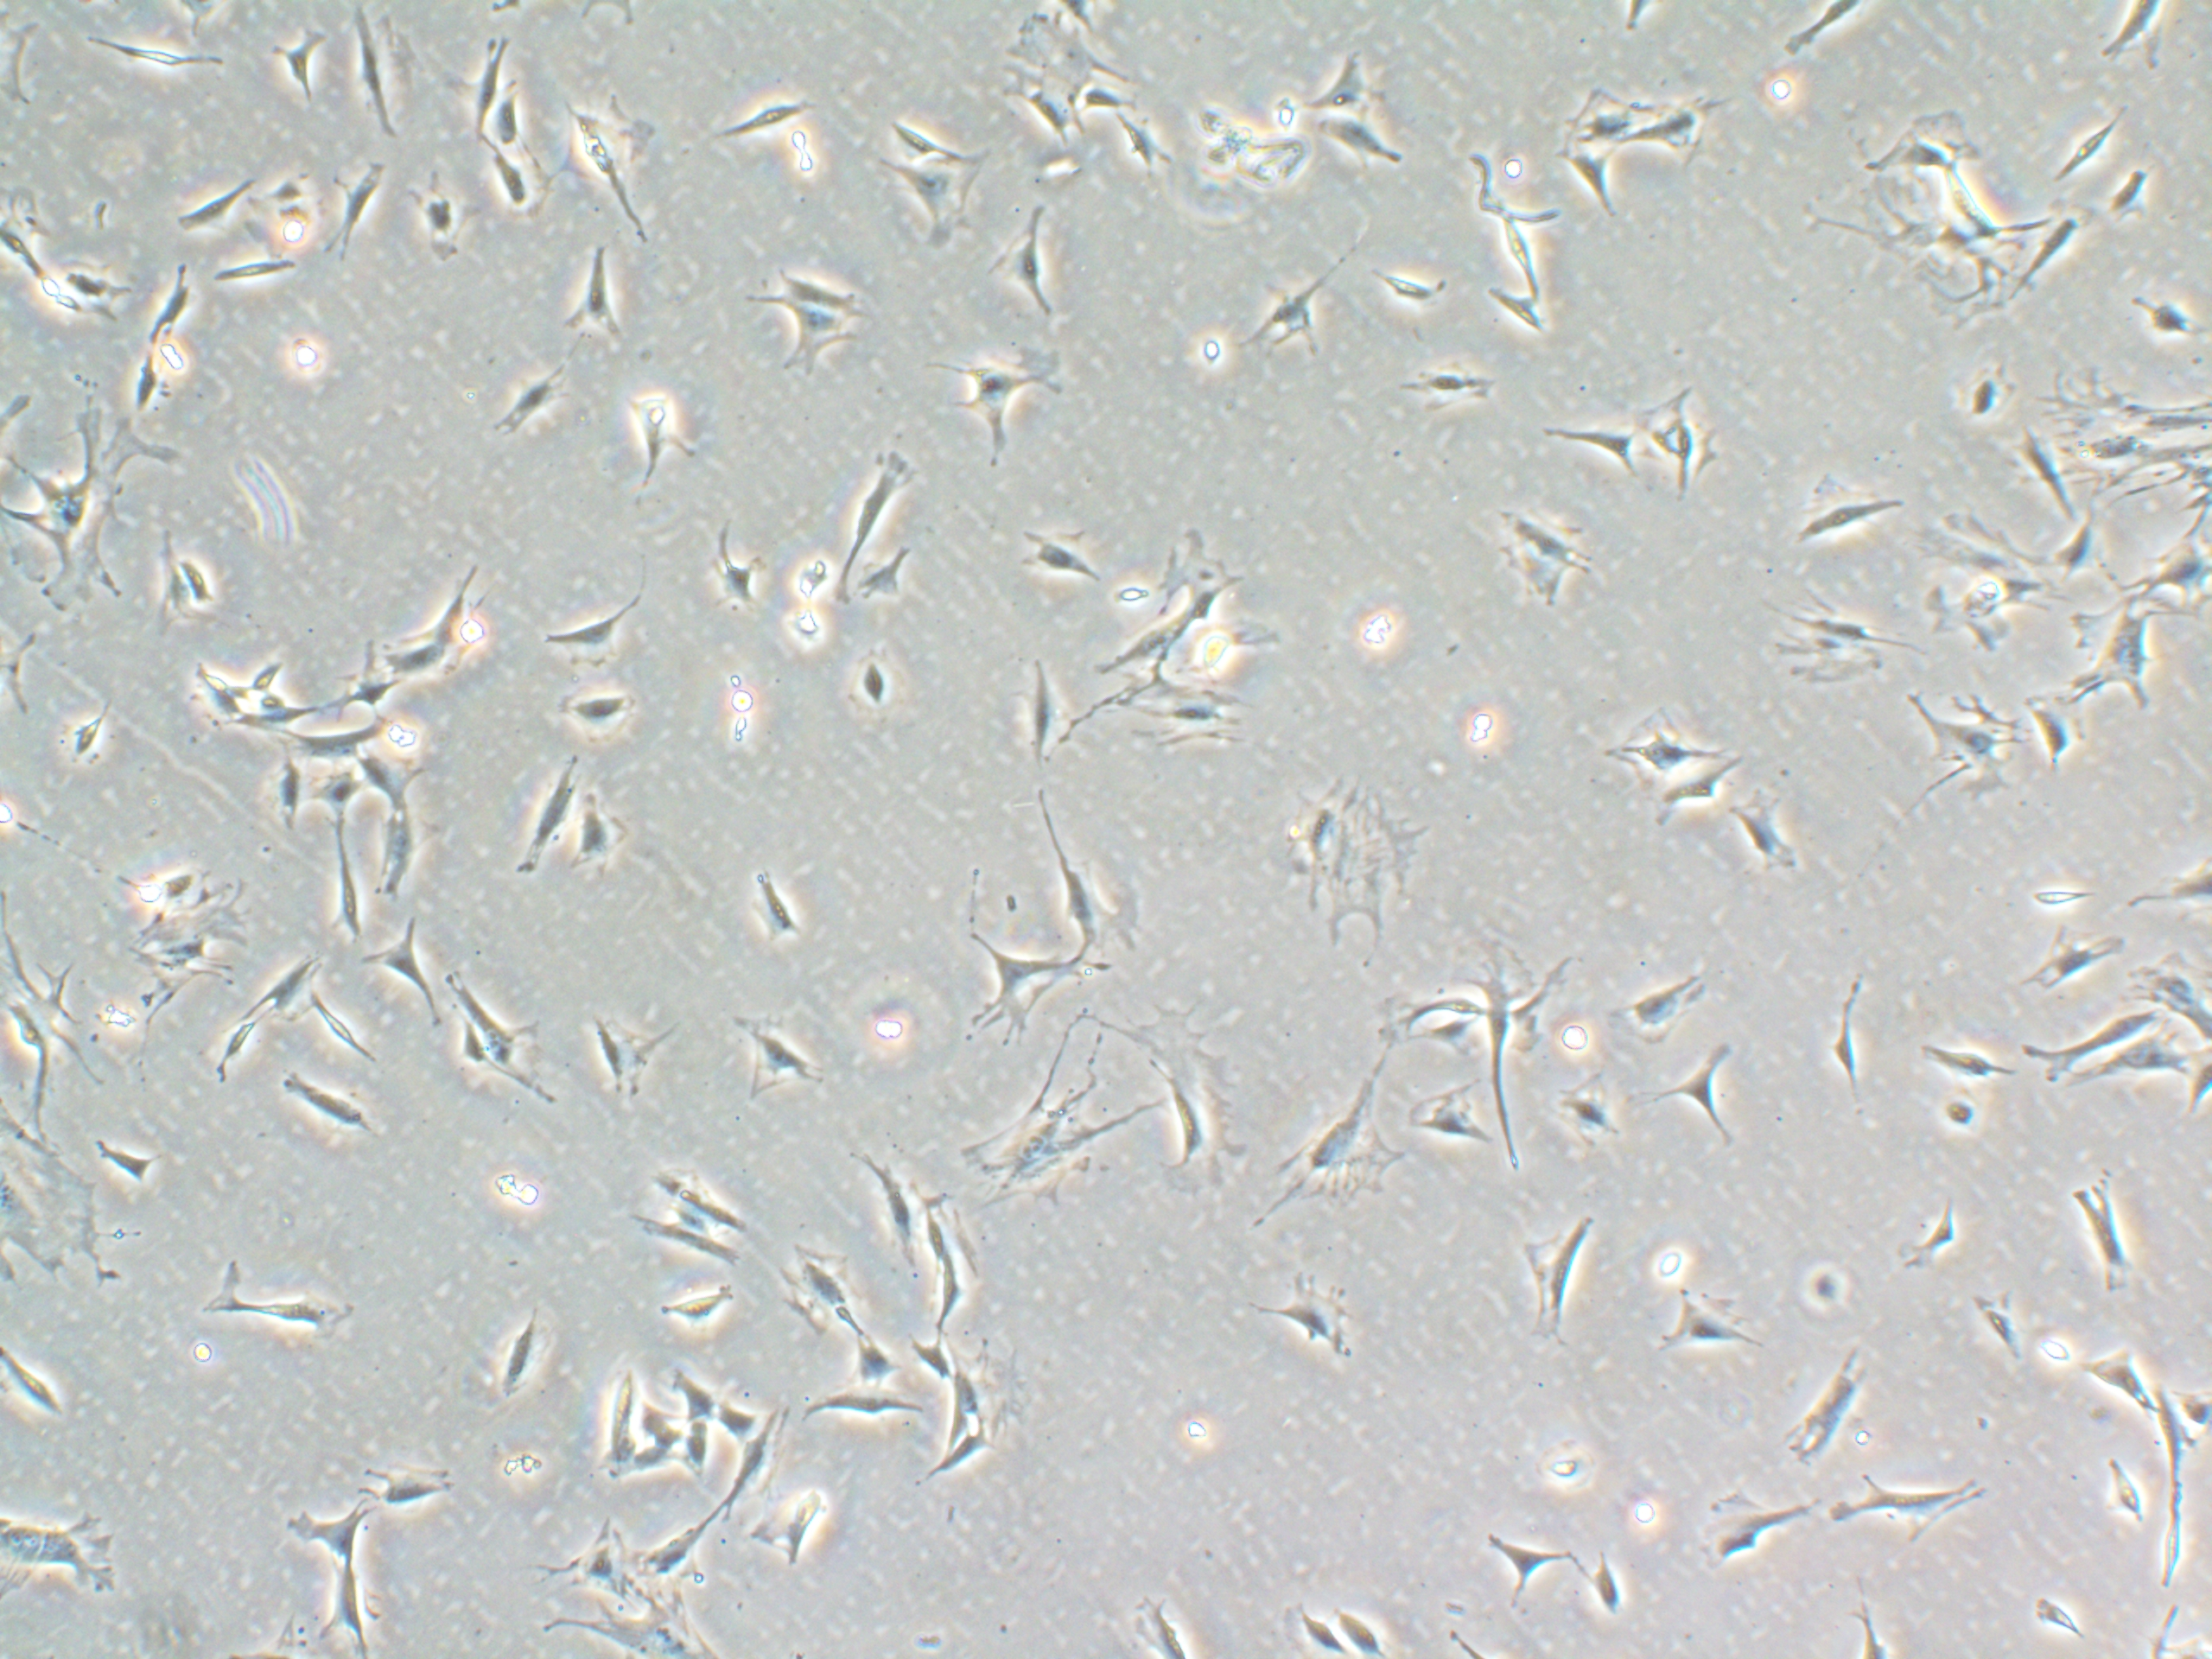small: (1886, 1173, 1973, 1295), (2087, 1438, 2170, 1546), (1566, 1539, 1644, 1633), (840, 638, 913, 737), (80, 1115, 167, 1197), (1994, 866, 2106, 927), (2033, 1570, 2107, 1659), (47, 688, 118, 779), (1609, 1474, 1681, 1563), (1522, 1434, 1609, 1499), (172, 545, 233, 619), (1935, 1089, 2005, 1147), (244, 650, 294, 695)
spread: (0, 404, 164, 638), (1116, 983, 1277, 1215), (1237, 769, 1430, 951), (1242, 1058, 1437, 1220), (951, 1077, 1141, 1237), (1844, 183, 2036, 336), (1892, 493, 2050, 666), (2026, 354, 2212, 500), (1585, 673, 1743, 828), (111, 870, 265, 1026), (1759, 579, 1907, 699)
